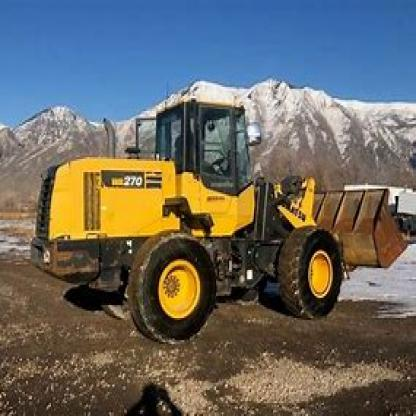bull_dozer/loader/grader: (25, 89, 414, 348)
